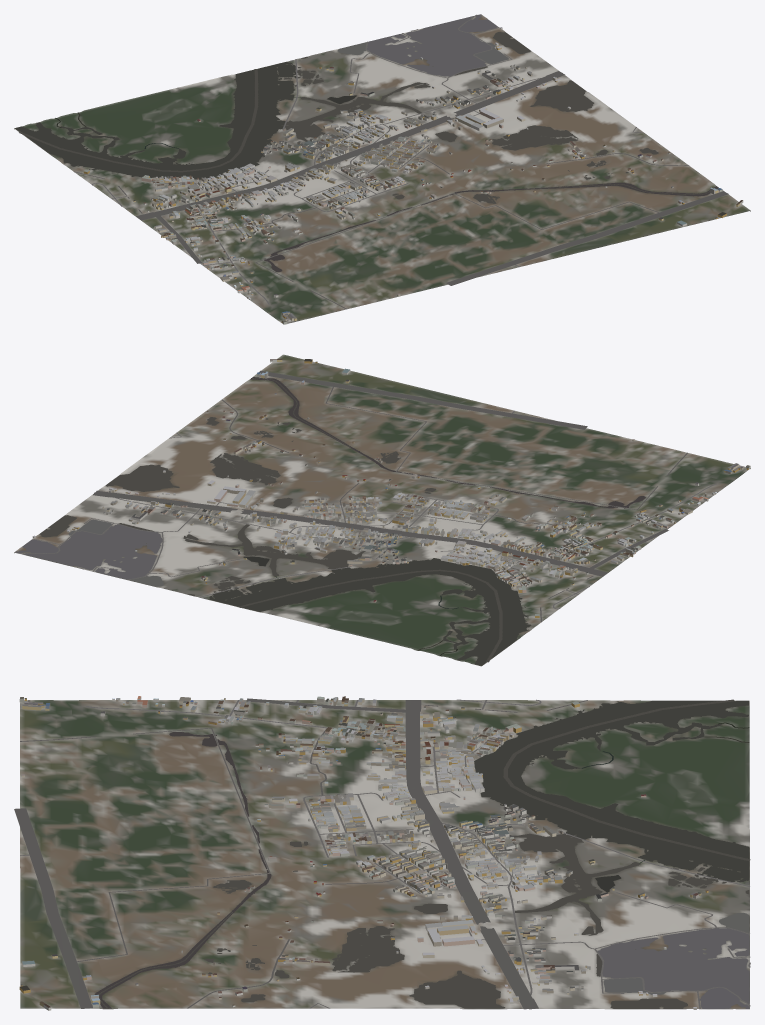
3 views of the same model, one above another, from view 1: azimuth 30°, elevation 25°; view 2: azimuth 150°, elevation 25°; view 3: azimuth 270°, elevation 25° (orthographic). The views are drawn at different scales.
Visible parts, largest first — view 1: ground, water, buildings, roads; view 2: ground, water, buildings, roads; view 3: ground, water, buildings, roads.
Boxes of the visible parts, x1,y1,x2,y2 form: ground: (14,14,750,324); water: (15,14,718,271); buildings: (83,27,743,324); roads: (74,14,728,309); ground: (14,354,750,666); water: (15,377,645,665); buildings: (32,359,750,617); roads: (18,370,716,622); ground: (20,700,749,1009); water: (94,699,750,1008); buildings: (19,696,708,1010); roads: (14,698,750,1009).
Bounding box in the file's own units: 1418 × 17.88 × 1414.
